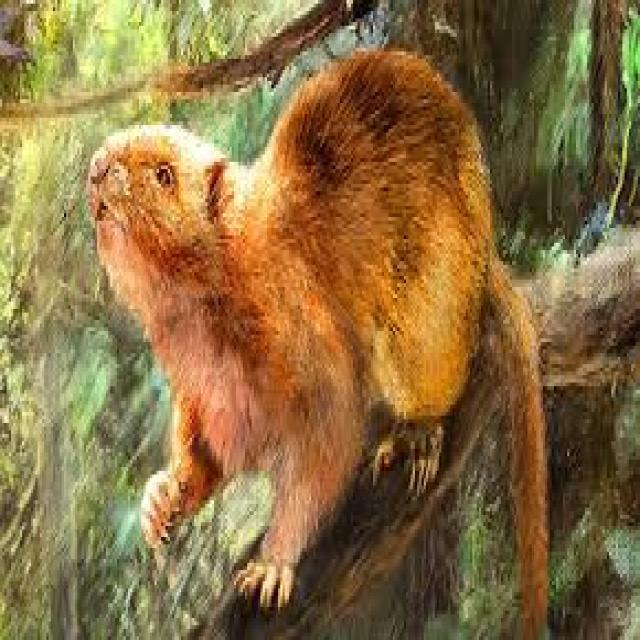Rat: (66, 39, 571, 634)
